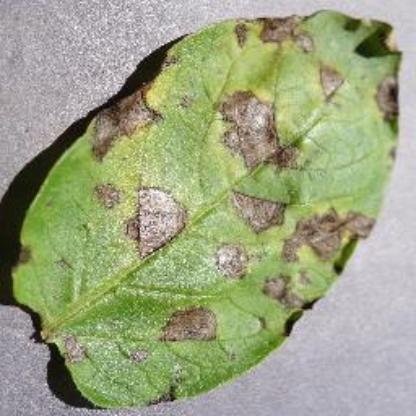Early-Blight: (10, 10, 410, 410)
